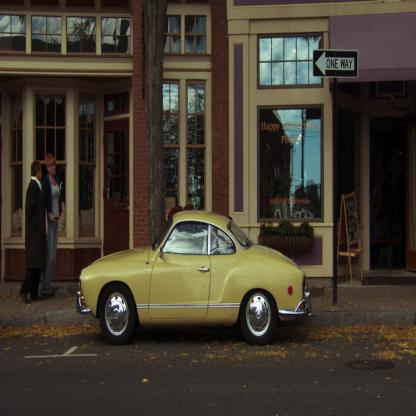Car: (76, 198, 312, 346)
